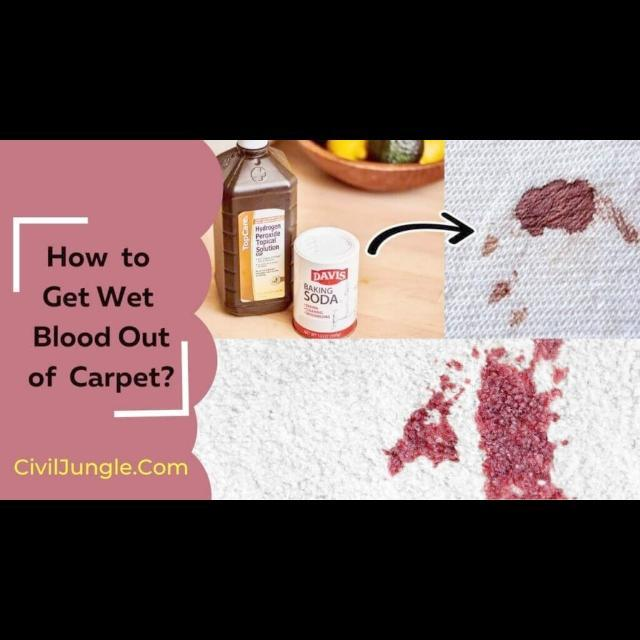blood: (474, 338, 568, 499), (381, 389, 460, 476), (513, 177, 602, 237), (486, 282, 511, 307), (482, 232, 499, 256)
